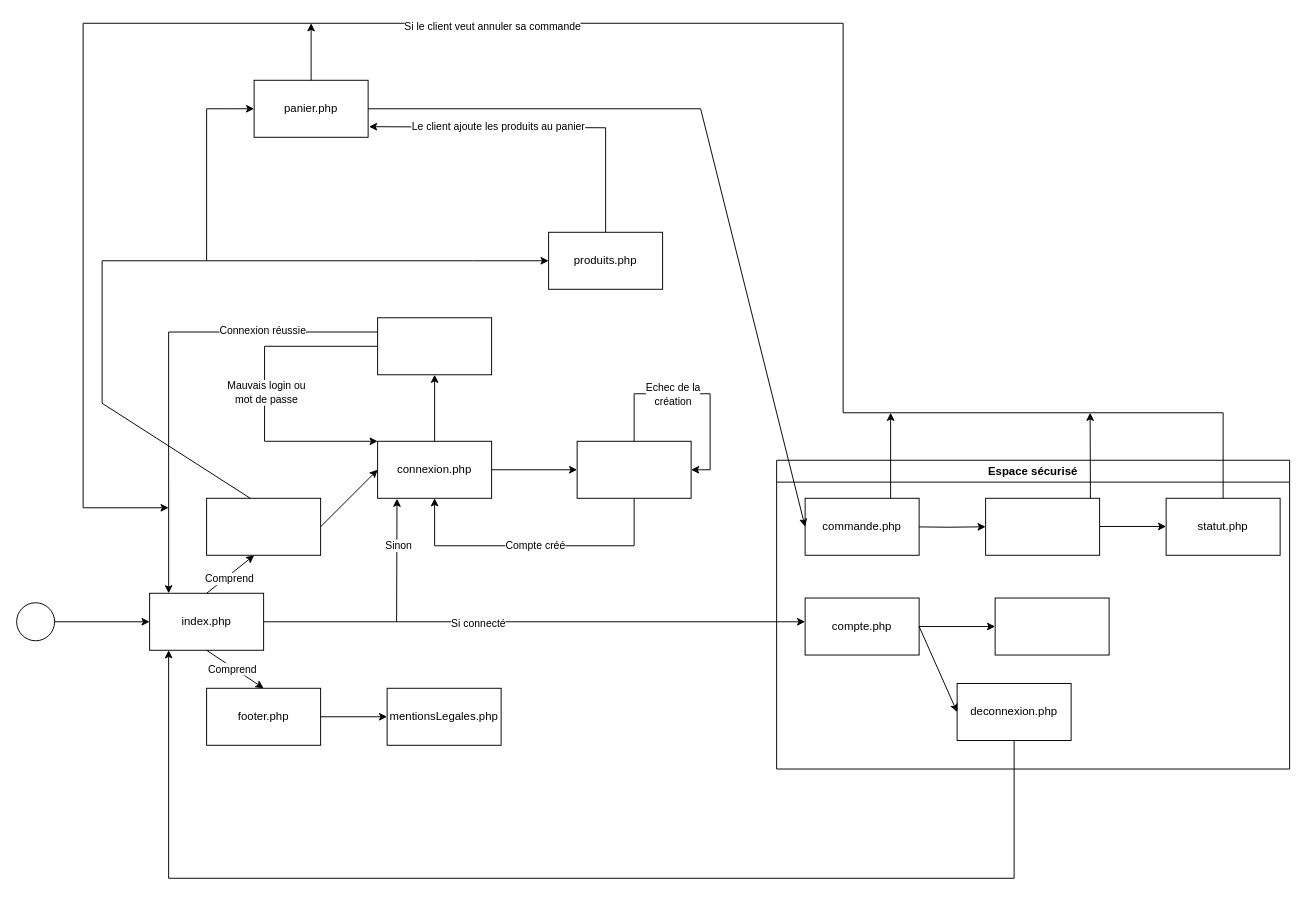
Some shapes in this 1306 by 903 pixel diagram are drawn without their labels. Here are the shapes that lost their labels. From the top down, the centre of each, then its label:
At pixel 434 346: "traitementLogin.php".
At pixel 633 469: "creerCompte.php".
At pixel 263 526: "header.php".
At pixel 1042 526: "paiement.php".
At pixel 1051 626: "historique.php".
